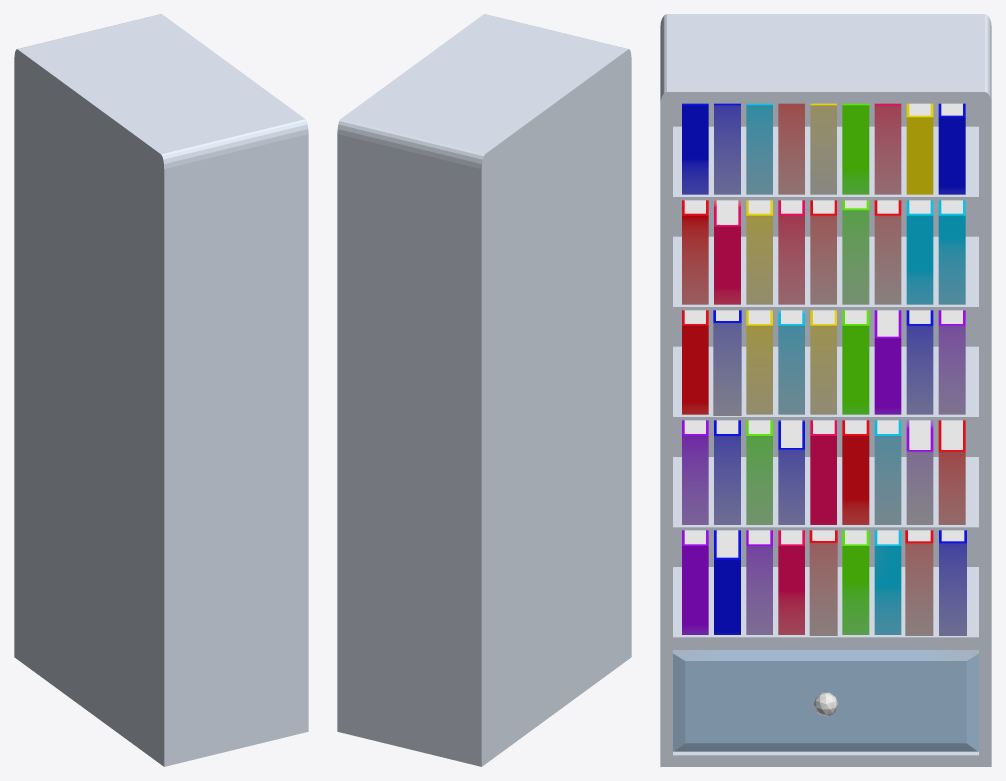
3 views of the same model, side by side, from view 1: azimuth 30°, elevation 25°; view 2: azimuth 150°, elevation 25°; view 3: azimuth 270°, elevation 25° (orthographic). The views are drawn at different scales.
Visible parts, largest first — view 1: Kostka; view 2: Kostka; view 3: Kostka.
Boxes of the visible parts, left/top/right/bottom form: Kostka: left=14, top=14, right=308, bottom=766; Kostka: left=337, top=14, right=631, bottom=766; Kostka: left=660, top=14, right=991, bottom=766.
Size of the model in its own units: 225 by 853 by 380.
1 material, 1 textured.
